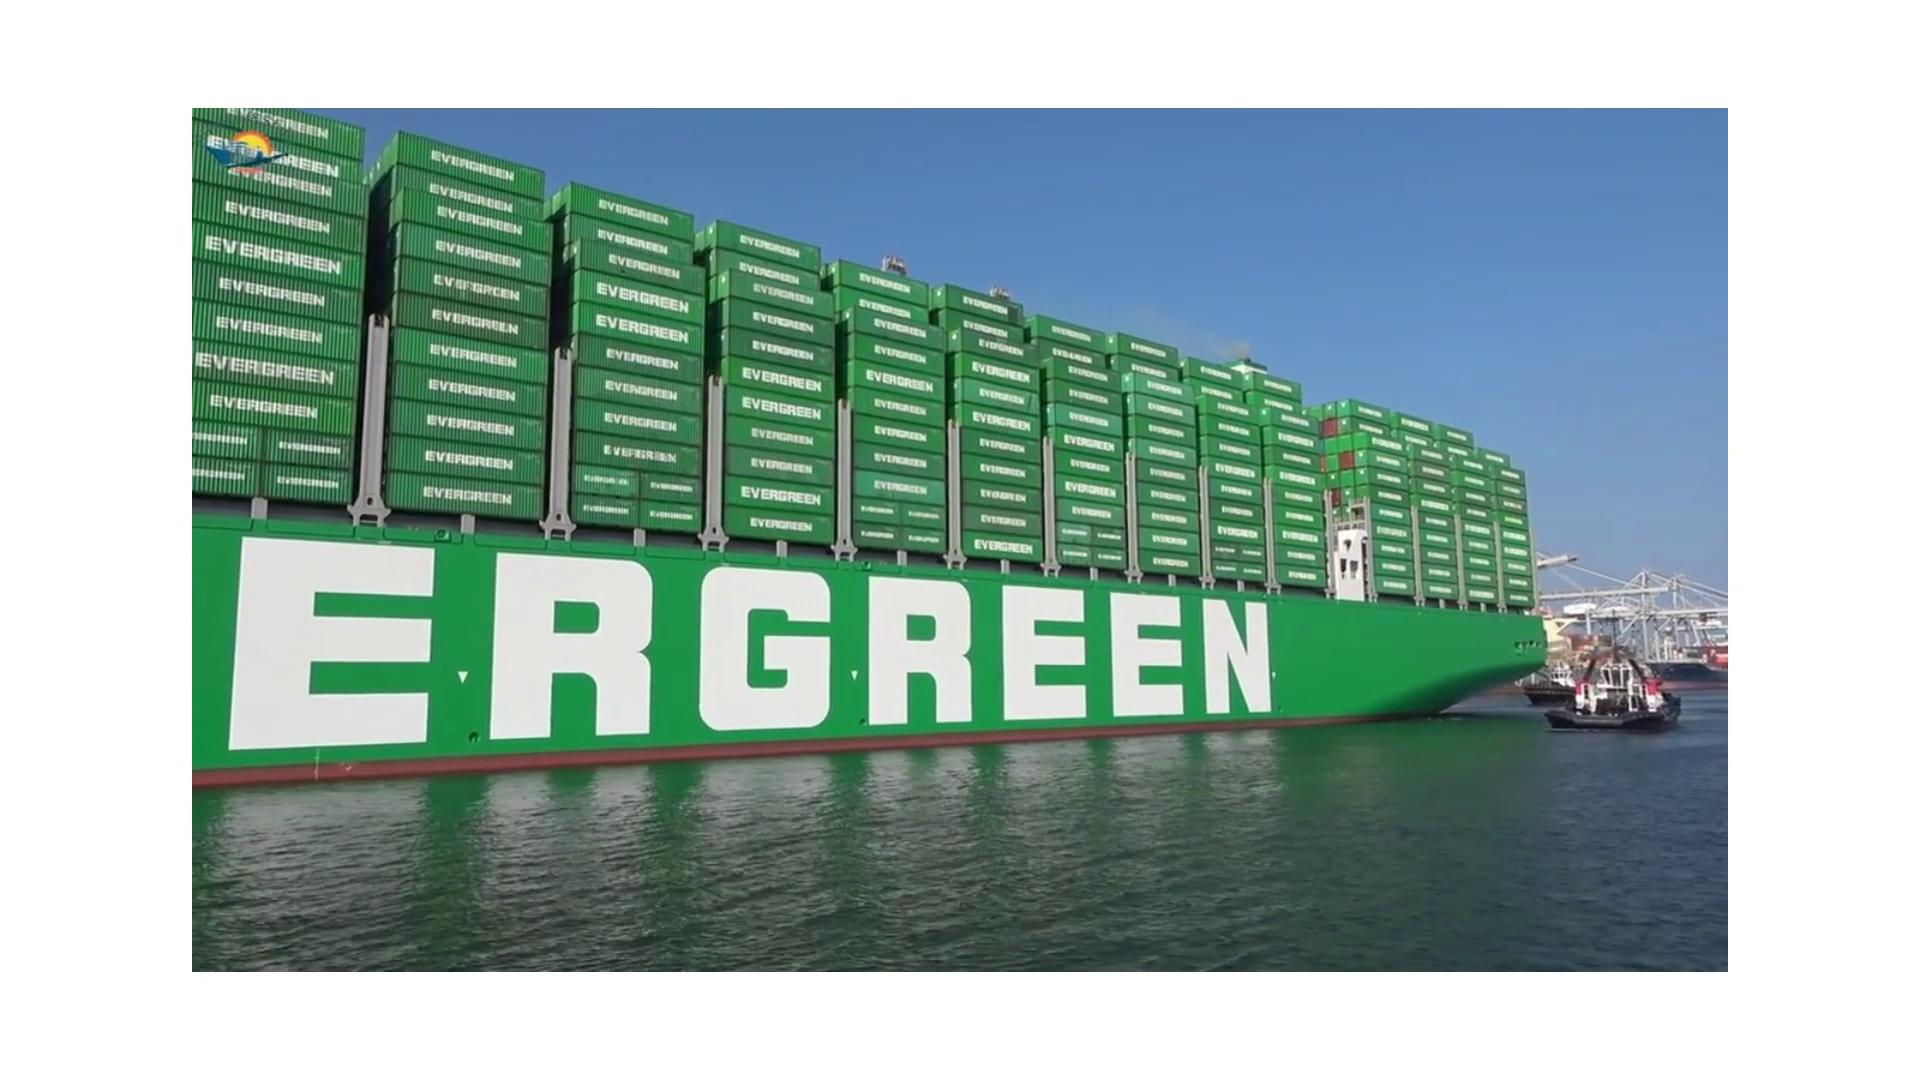OCR: (204, 509, 1305, 769)
